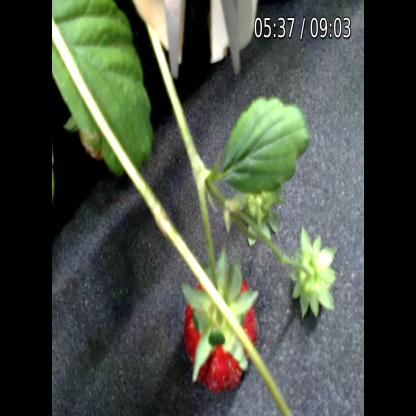ripe: (184, 276, 266, 390)
